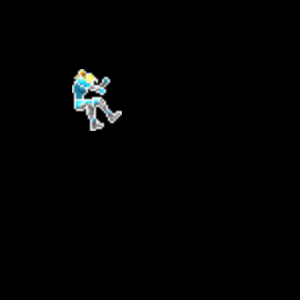Collectible: (72, 69, 122, 131)
